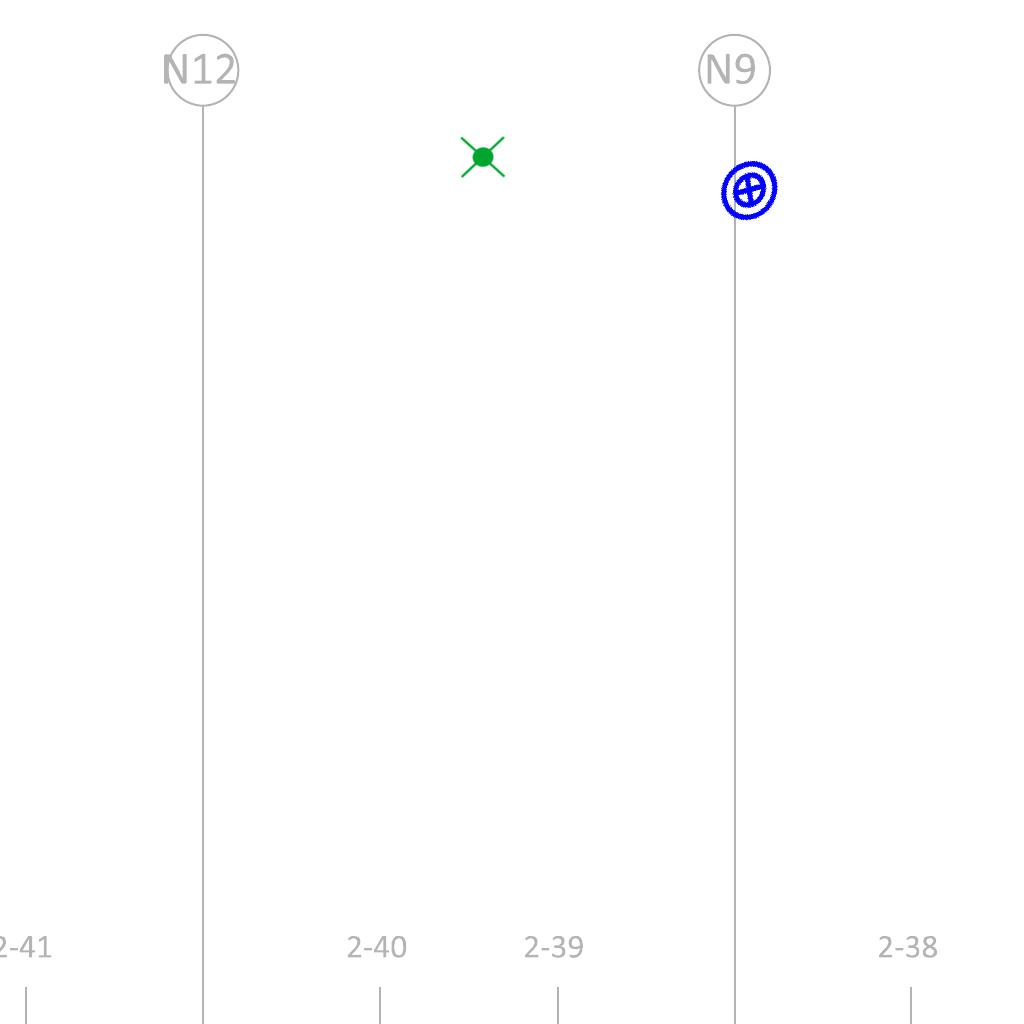Notlichtbaustein_in_Allgemeinbeleuchtug_engebaut_Einbau_(1UG_und_2UG_Aufbauvaria: (458, 131, 508, 182)
Taster_beleuchtet: (703, 144, 795, 236)
